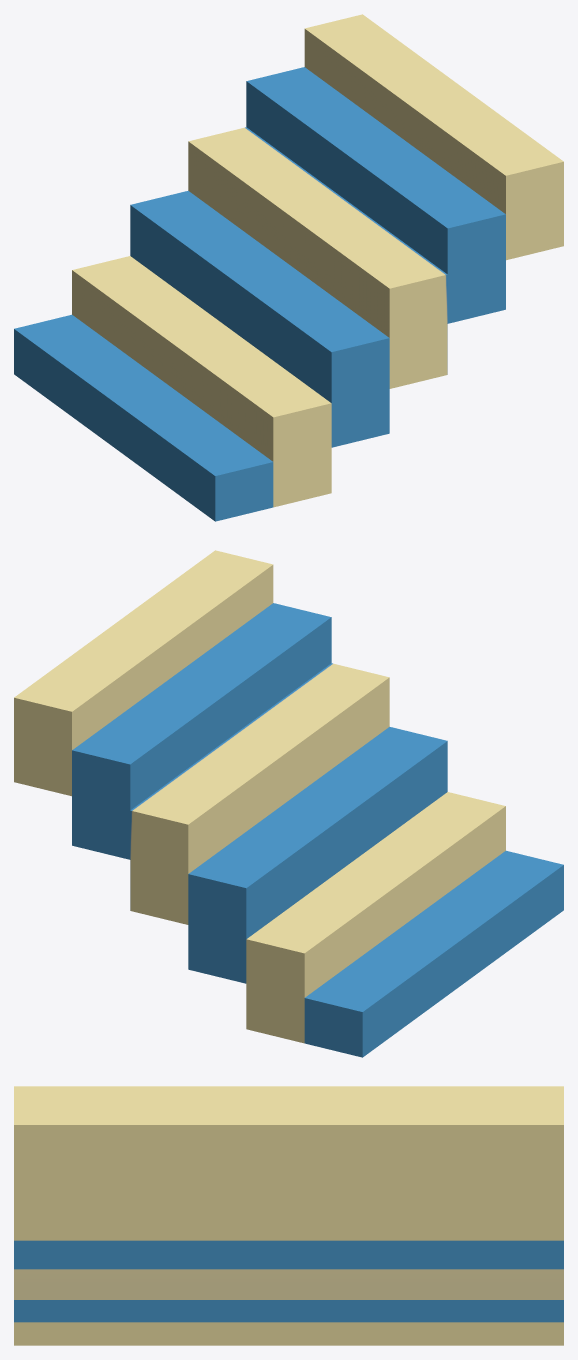
The model's file is M_staire_02.fbx.
3 views of the same model, one above another, from view 1: azimuth 30°, elevation 25°; view 2: azimuth 150°, elevation 25°; view 3: azimuth 270°, elevation 25° (orthographic). The views are drawn at different scales.
Parts seen in each view (by area): view 1: Cube.023; view 2: Cube.023; view 3: Cube.023.
Part boxes in pixels (x1,y1,x2,y2): Cube.023: (14, 14, 563, 521); Cube.023: (14, 550, 563, 1057); Cube.023: (14, 1086, 563, 1345).
Size of the model in its own units: 200 by 151 by 200.
